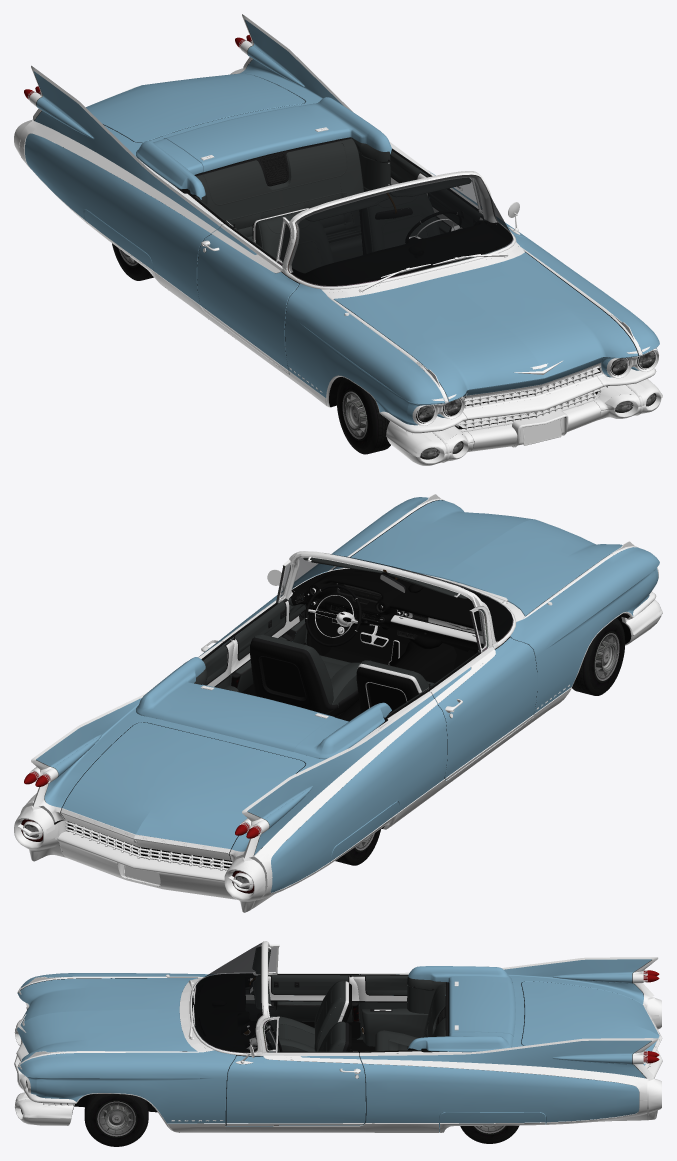
The model's file is Cadillac EL Dorado.glb.
3 renders of one model, top to bottom at view 1: azimuth 30°, elevation 25°; view 2: azimuth 150°, elevation 25°; view 3: azimuth 270°, elevation 25°, orthographic. The views are drawn at different scales.
Parts seen in each view (by area): view 1: Object_4.001, Object_13.001, Object_3, Object_9.002, Object_14.003, Object_11.003, Object_6.001, Object_12.002, Object_7, Object_2; view 2: Object_4.001, Object_3, Object_13.001, Object_7, Object_14.003, Object_9.002, Object_6.001, Object_2, Object_11.003, Object_12.002; view 3: Object_4.001, Object_3, Object_13.001, Object_9.002, Object_14.003, Object_7, Object_2, Object_12.002, Object_6.001, Object_11.003.
Part boxes in pixels (x1=…): Object_4.001: x1=25, y1=19, x2=659, y2=425; Object_13.001: x1=14, y1=14, x2=662, y2=465; Object_3: x1=194, y1=137, x2=512, y2=341; Object_9.002: x1=278, y1=174, x2=512, y2=284; Object_14.003: x1=112, y1=145, x2=390, y2=454; Object_11.003: x1=24, y1=35, x2=656, y2=459; Object_6.001: x1=33, y1=20, x2=654, y2=450; Object_12.002: x1=103, y1=103, x2=507, y2=412; Object_7: x1=226, y1=163, x2=561, y2=445; Object_2: x1=118, y1=248, x2=367, y2=439; Object_4.001: x1=36, y1=497, x2=659, y2=892; Object_3: x1=194, y1=557, x2=512, y2=721; Object_13.001: x1=14, y1=494, x2=662, y2=912; Object_7: x1=124, y1=574, x2=483, y2=884; Object_14.003: x1=335, y1=618, x2=625, y2=865; Object_9.002: x1=280, y1=553, x2=512, y2=647; Object_6.001: x1=36, y1=500, x2=631, y2=886; Object_2: x1=355, y1=633, x2=619, y2=850; Object_11.003: x1=21, y1=771, x2=260, y2=893; Object_12.002: x1=54, y1=562, x2=629, y2=859; Object_4.001: x1=17, y1=959, x2=659, y2=1132; Object_3: x1=192, y1=946, x2=447, y2=1098; Object_13.001: x1=14, y1=941, x2=662, y2=1132; Object_9.002: x1=192, y1=943, x2=276, y2=1051; Object_14.003: x1=84, y1=1093, x2=519, y2=1146; Object_7: x1=243, y1=976, x2=407, y2=1051; Object_2: x1=97, y1=1101, x2=505, y2=1136; Object_12.002: x1=73, y1=973, x2=654, y2=1125; Object_6.001: x1=18, y1=944, x2=651, y2=1114; Object_11.003: x1=21, y1=970, x2=659, y2=1114.
Bounding box in the file's own units: 2.6 × 1.59 × 7.22.
Materials: 13 (7 with a texture image).
